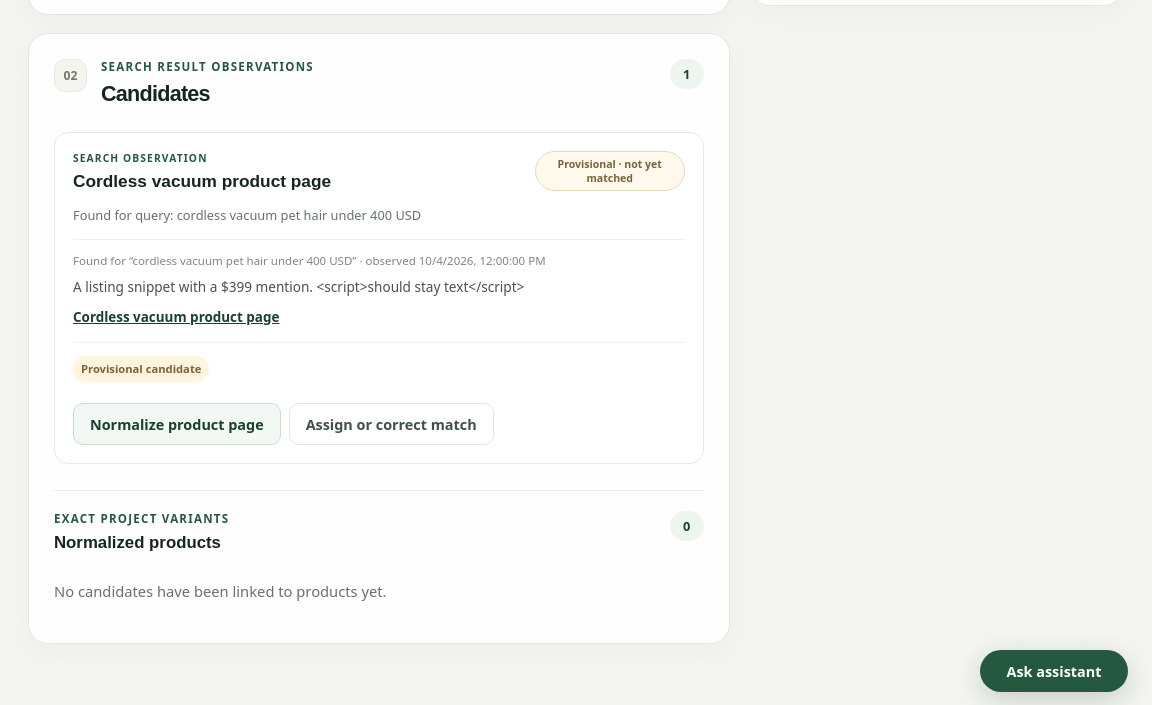
Test: Discover › creates a new variant within an existing product family with a reason
(page scrolled)
Expected: the heading "Cordless vacuum product page" is shown, [73,170,331,193]
Click the button "Assign or correct match": [391, 424] box [289,403,494,445]
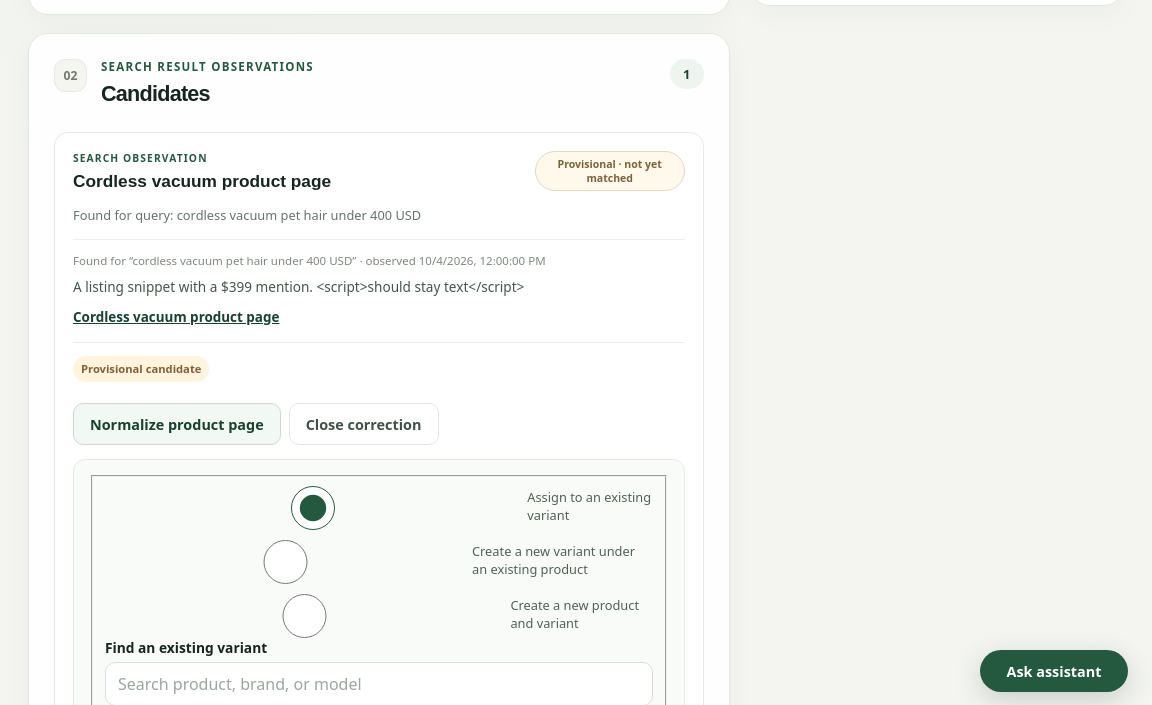
Click the radio button labelled "Create a new variant under an existing product": [286, 562] box [110,540,461,584]
(page scrolled)
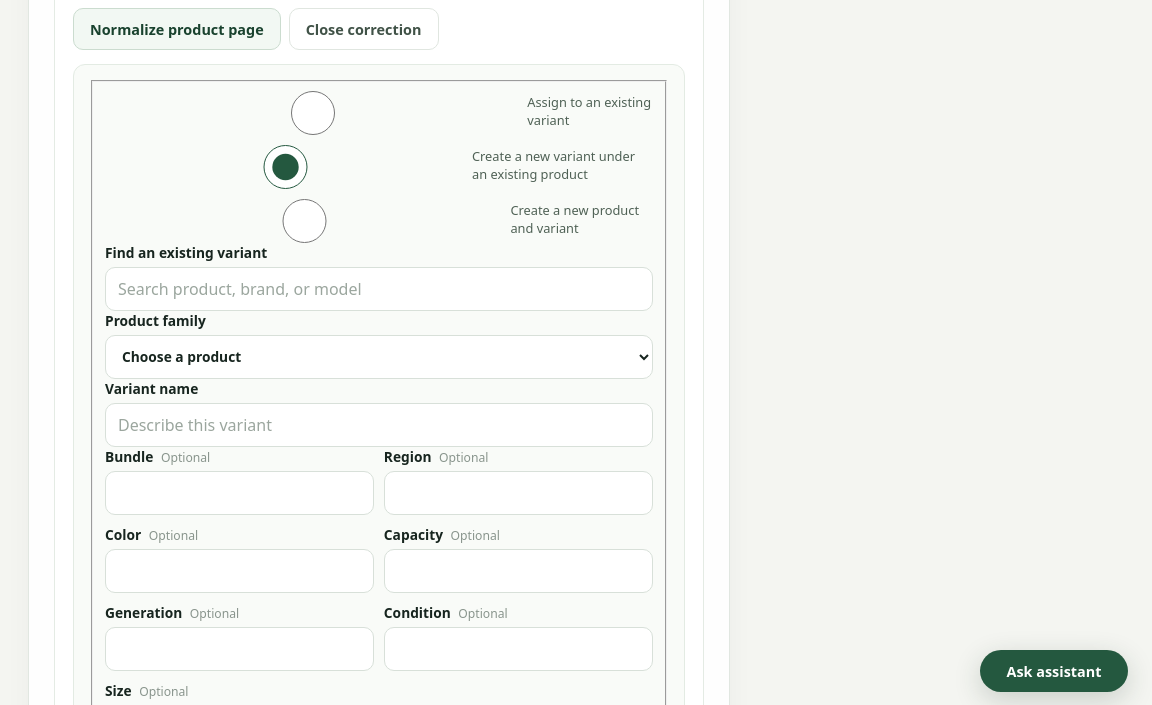
Select "Acme · Acme Clean 4 · AX-400" in the dropdown labelled "Product family": [379, 357] box [105,335,653,379]
In the field labelled "Variant name": [379, 425] box [105,403,653,447], type "Pet kit"
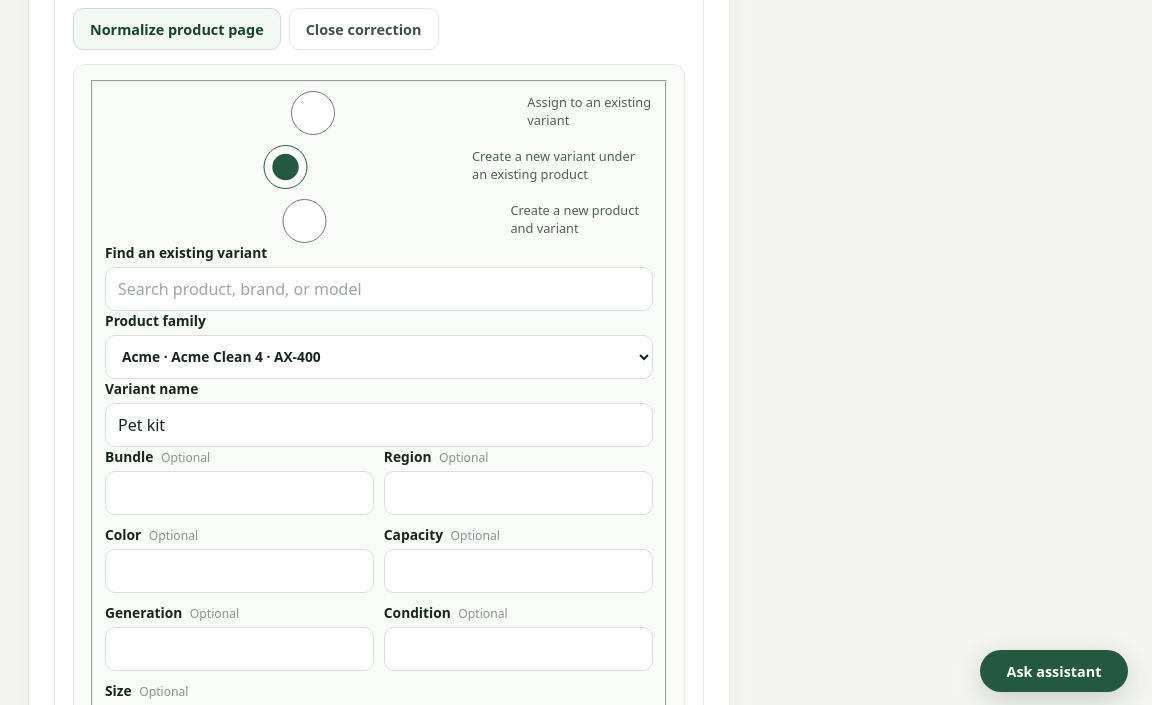
In the field labelled "Bundle Optional": [239, 493] box [105,471,374,515], type "pet kit"
(page scrolled)
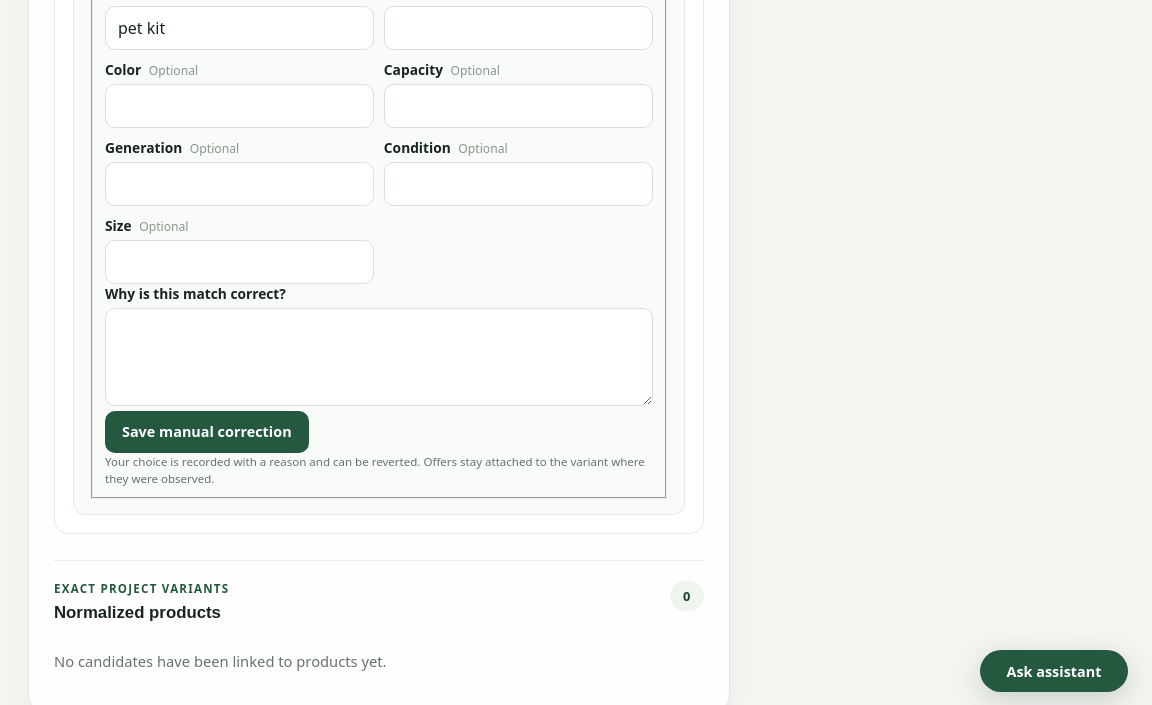
In the text box labelled "Why is this match correct?": [379, 357] box [105,308,653,406], type "This is the same model family with a distinct kit."
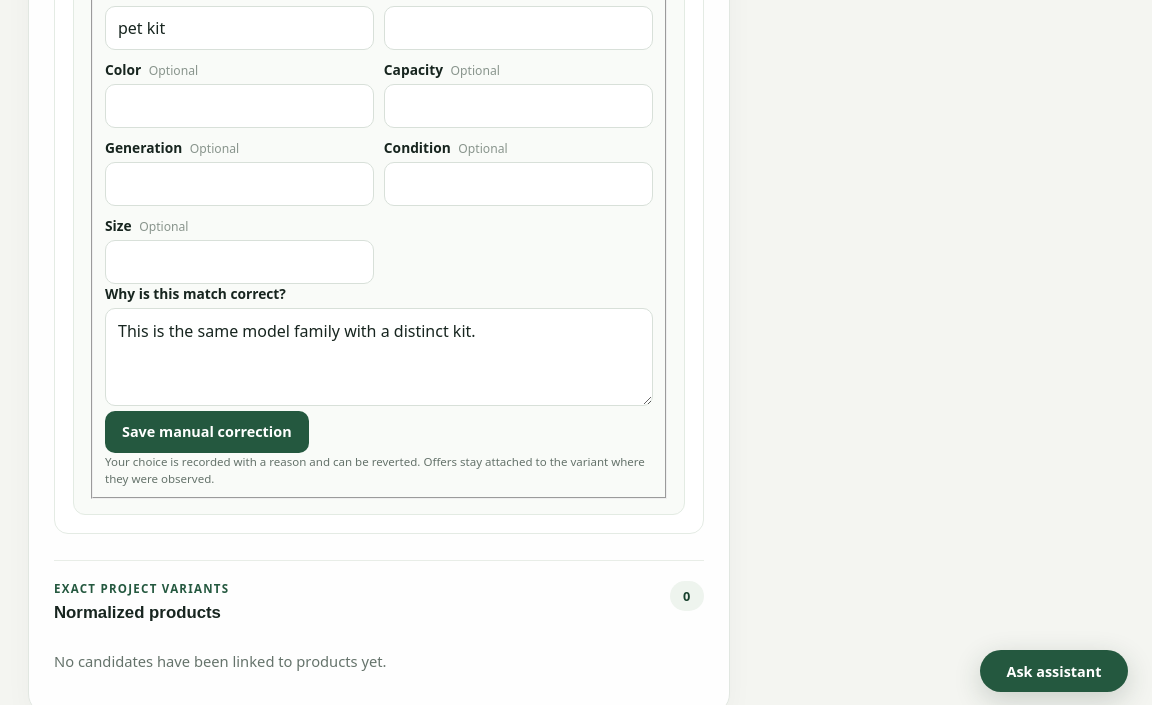
Click the button "Save manual correction": [207, 432] box [105,411,309,453]
(page scrolled)
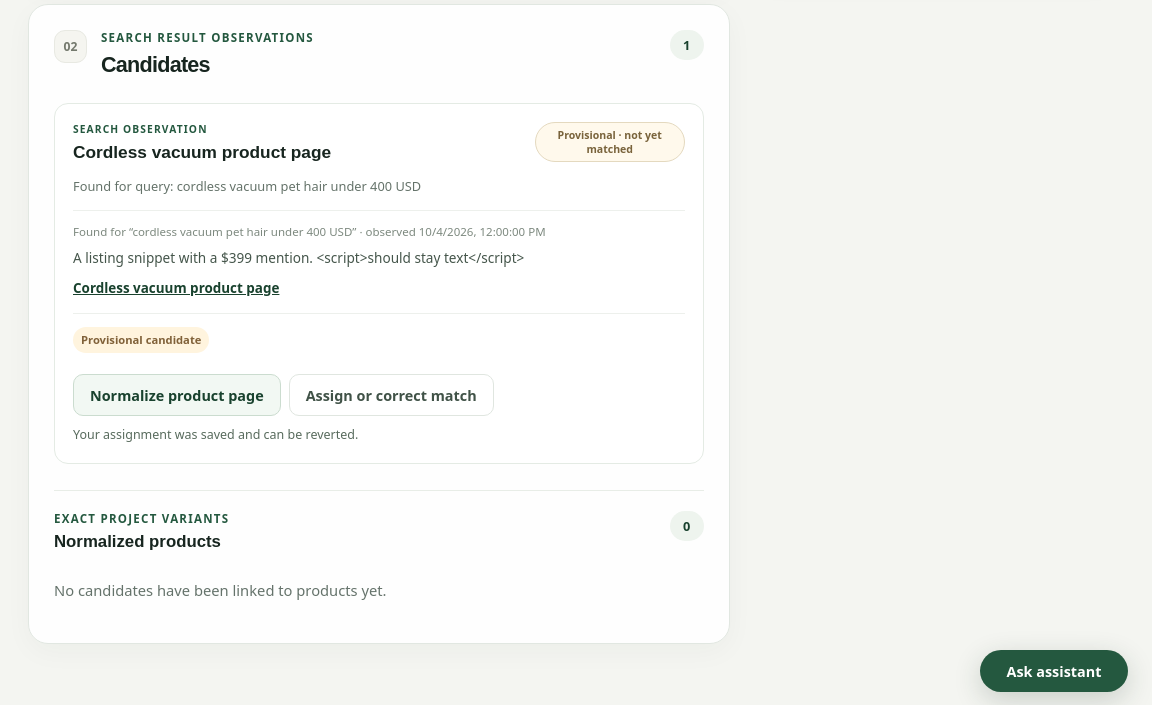
Now the text "Your assignment was saved and can be reverted." is shown, box [73,426,358,443]
